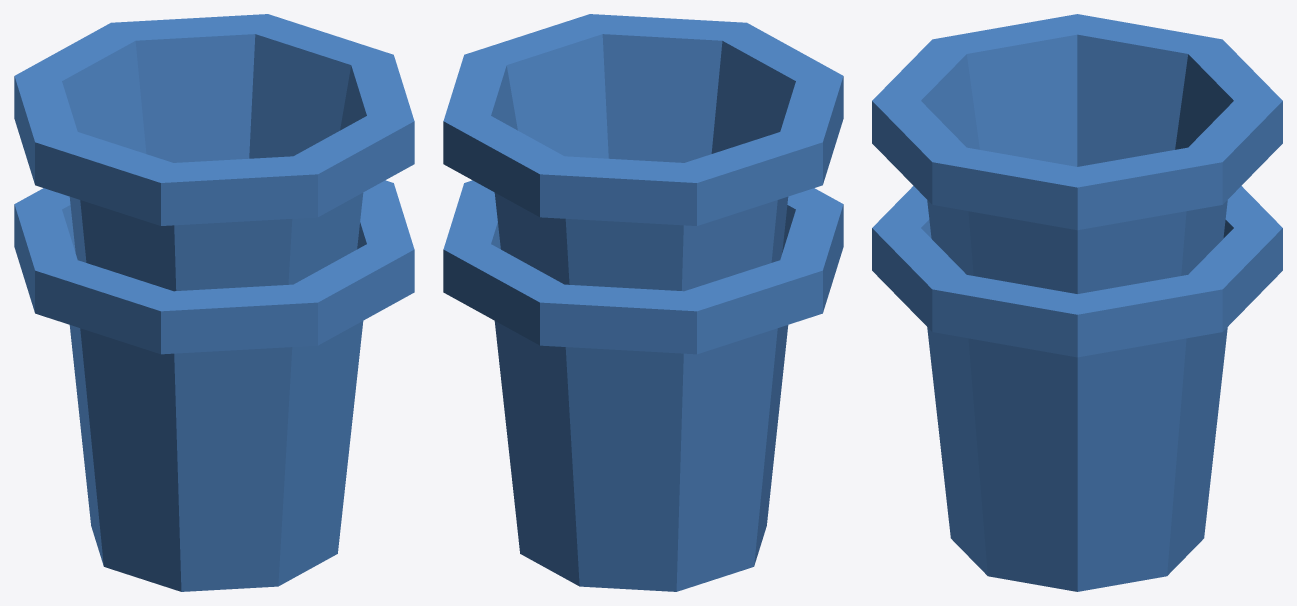
Rendered from Pots.fbx.
3 views of the same model, side by side, from view 1: azimuth 30°, elevation 25°; view 2: azimuth 150°, elevation 25°; view 3: azimuth 270°, elevation 25° (orthographic).
Visible parts, largest first — view 1: Pots; view 2: Pots; view 3: Pots.
Part boxes in pixels (x1=…): Pots: x1=14, y1=14, x2=414, y2=591; Pots: x1=443, y1=14, x2=843, y2=591; Pots: x1=872, y1=14, x2=1282, y2=591.
Size of the model in its own units: 20.61 by 20.61 by 24.23.
